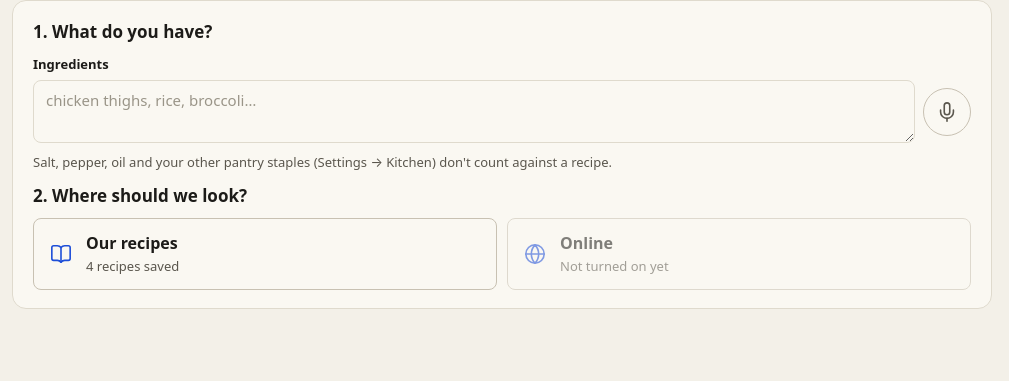
Scenario: What's in my kitchen › asks for ingredients first
Click the button "Our recipes 4 recipes saved".
click(132, 243)  # box [33,218,497,290]
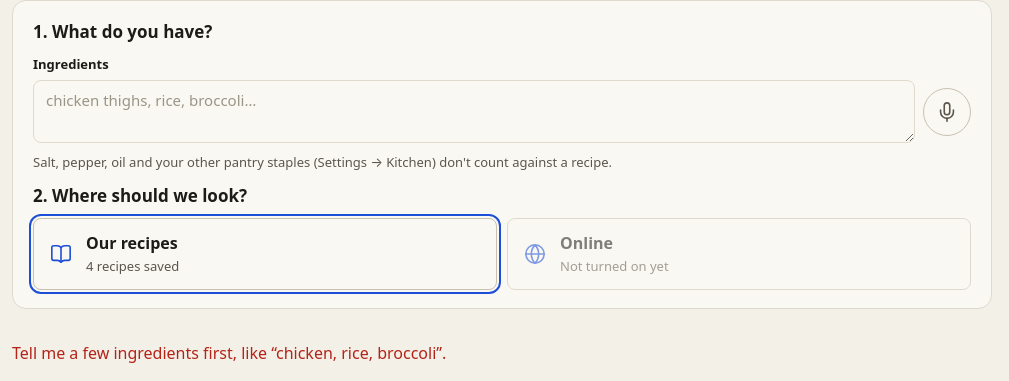
Result: the message shows "Tell me a few ingredients" at [12,342,446,364]
